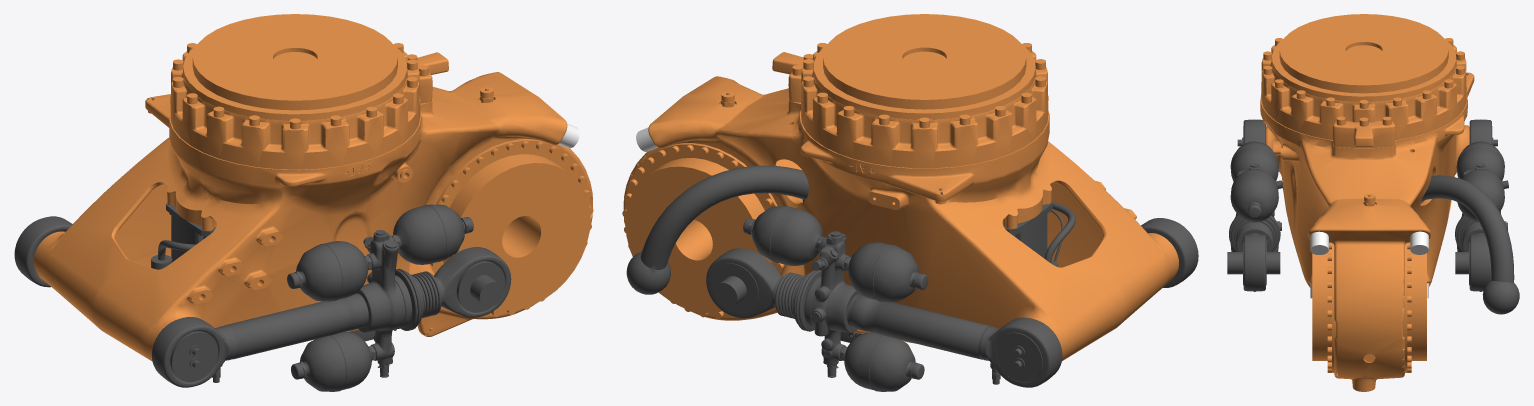
The picture shows the model from 3 angles, left to right: view 1: azimuth 30°, elevation 25°; view 2: azimuth 150°, elevation 25°; view 3: azimuth 270°, elevation 25°; orthographic projection. The views are drawn at different scales.
Visible parts, largest first — view 1: link_1.008; view 2: link_1.008; view 3: link_1.008.
Boxes of the visible parts, x1,y1,x2,y2 form: link_1.008: (14,14,593,391); link_1.008: (622,14,1198,391); link_1.008: (1227,14,1519,391).
Bounding box in the file's own units: 1.25 × 0.7887 × 0.7297.
